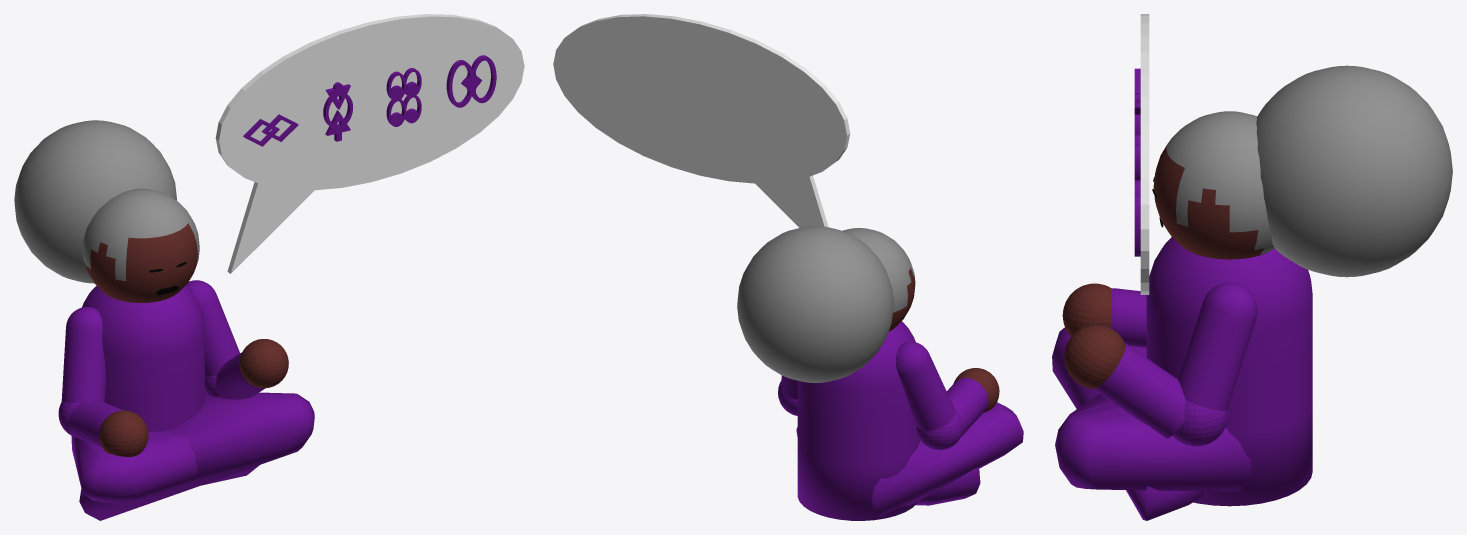
File: BSN_Education_Ani_Elder.gltf
3 renders of one model, left to right at view 1: azimuth 30°, elevation 25°; view 2: azimuth 150°, elevation 25°; view 3: azimuth 270°, elevation 25°, orthographic. The views are drawn at different scales.
Visible parts, largest first — view 1: speechBubble, elderHair, elderBody, elderHead, elderLegL, elderLegR, elderUpperArmR, elderUpperArmL, elderHandL, elderHandR, elderLowerArmR, adinkraWisdom (+4 smaller); view 2: speechBubble, elderHair, elderBody, elderLegR, elderUpperArmR, elderHead, elderLowerArmR, elderLegL, elderElbowR, elderHandR; view 3: elderHair, elderBody, elderHead, elderLegL, elderUpperArmL, elderLowerArmL, elderHandL, elderLegR, speechBubble, elderHandR, elderLowerArmR, elderElbowL (+1 smaller).
Part boxes in pixels (x1,y1,x2,y2): speechBubble: (215, 14, 524, 273); elderHair: (14, 120, 176, 283); elderBody: (82, 285, 204, 431); elderHead: (82, 188, 199, 302); elderLegL: (79, 391, 314, 520); elderLegR: (71, 430, 259, 502); elderUpperArmR: (61, 307, 105, 403); elderUpperArmL: (186, 280, 239, 376); elderHandL: (239, 339, 288, 388); elderHandR: (99, 410, 148, 457); elderLowerArmR: (68, 399, 122, 447); adinkraWisdom: (386, 68, 421, 126); speechBubble: (553, 14, 850, 227); elderHair: (737, 226, 893, 382); elderBody: (797, 321, 920, 520); elderLegR: (796, 402, 1023, 516); elderUpperArmR: (896, 341, 955, 430); elderHead: (842, 228, 915, 331); elderLowerArmR: (947, 377, 988, 437); elderLegL: (915, 467, 980, 505); elderElbowR: (916, 408, 963, 449); elderHandR: (953, 368, 999, 412); elderHair: (1256, 65, 1452, 277); elderBody: (1146, 237, 1312, 506); elderHead: (1153, 111, 1274, 259); elderLegL: (1055, 393, 1251, 491); elderUpperArmL: (1178, 282, 1257, 411); elderLowerArmL: (1094, 343, 1185, 438); elderHandL: (1064, 325, 1125, 388); elderLegR: (1052, 327, 1203, 520); speechBubble: (1140, 14, 1149, 294); elderHandR: (1062, 283, 1112, 336); elderLowerArmR: (1111, 288, 1146, 347); elderElbowL: (1172, 400, 1228, 446).
Size of the model in its own units: 12.93 by 11.48 by 7.46.
